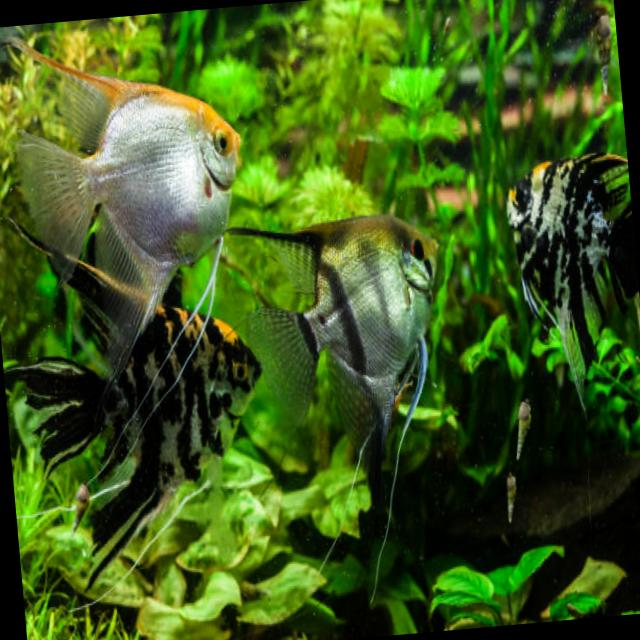AngelFish: (0, 178, 279, 583), (0, 17, 266, 402), (232, 192, 457, 468), (499, 142, 640, 403)
